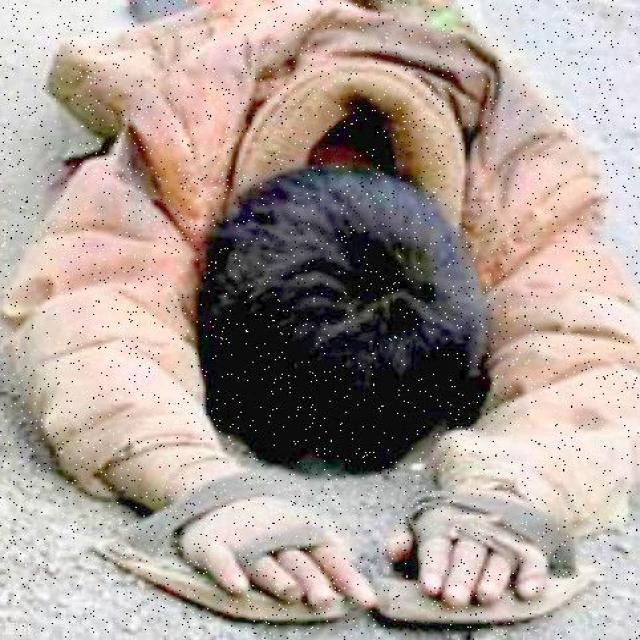fall: (42, 0, 636, 620)
